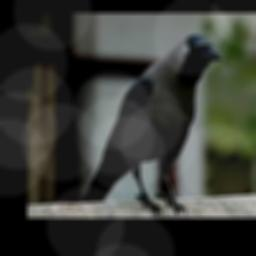Crow: (80, 34, 223, 216)
